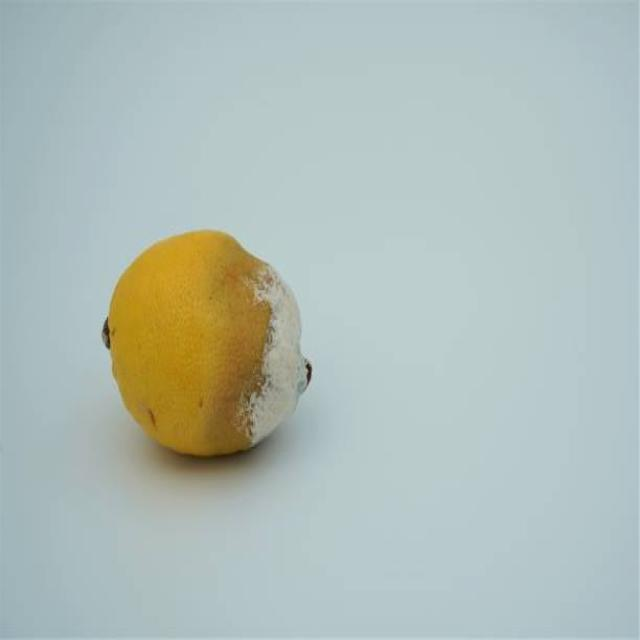Rotten: (100, 227, 312, 458)
